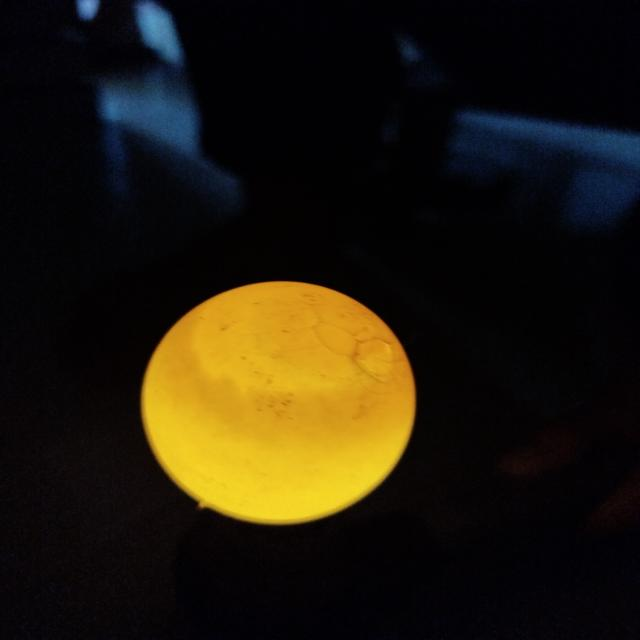Camara de Ar: (196, 281, 379, 390)
Rachadura: (313, 320, 404, 382)
